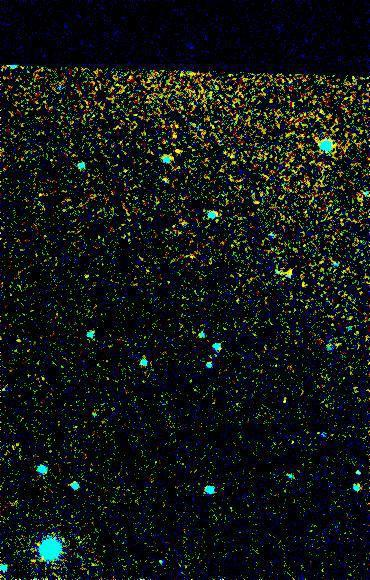star: (160, 135, 190, 165)
